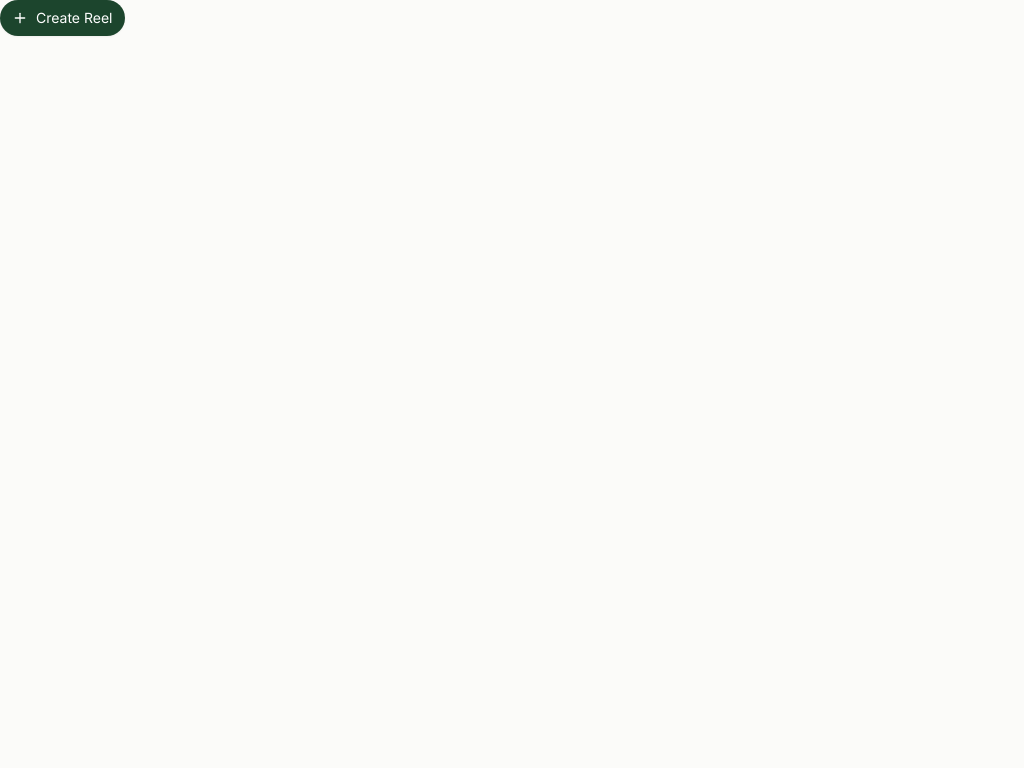
Test: CreateBookReelDialog › renders trigger button and opens dialog with 10-second rule and fields
Click the button "Create Reel" at point(62, 18), box x1=0 y1=0 x2=124 y2=36
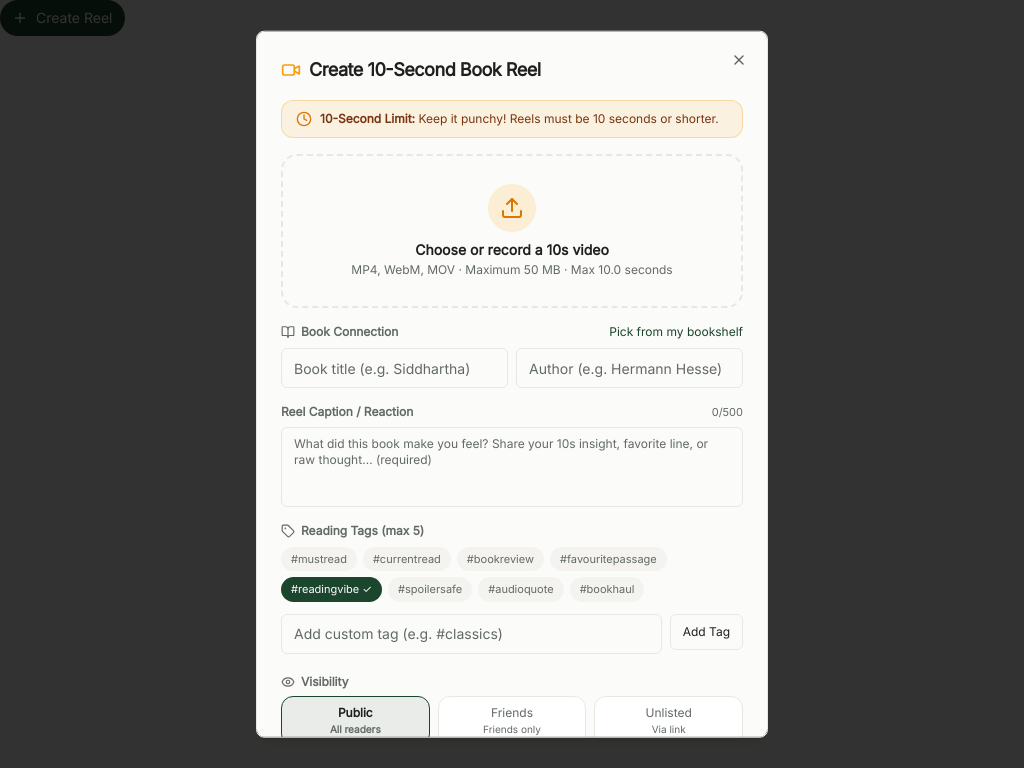
Expected: the text "Create 10-Second Book Reel" is shown, x1=309 y1=56 x2=541 y2=84
Expected: the text "10-Second Limit:" is shown, x1=320 y1=111 x2=415 y2=126
Expected: the button "Pick from my bookshelf" is shown, x1=609 y1=324 x2=743 y2=340
